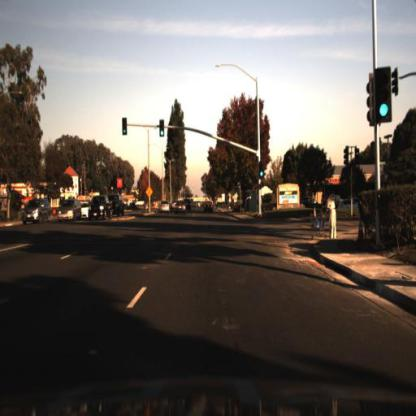car: (20, 195, 53, 226), (85, 194, 114, 222), (56, 194, 83, 222), (89, 196, 116, 219), (111, 193, 127, 224), (107, 189, 126, 215), (338, 199, 361, 213), (174, 195, 188, 216), (158, 199, 173, 215), (204, 198, 216, 218), (183, 197, 195, 215)
pedestrian: (325, 190, 339, 240)
trafficLight-Green: (159, 117, 166, 142), (160, 118, 166, 139), (259, 162, 265, 181), (259, 162, 265, 178)
trafficLight-GreenLeft: (122, 116, 130, 139), (123, 116, 128, 137)
